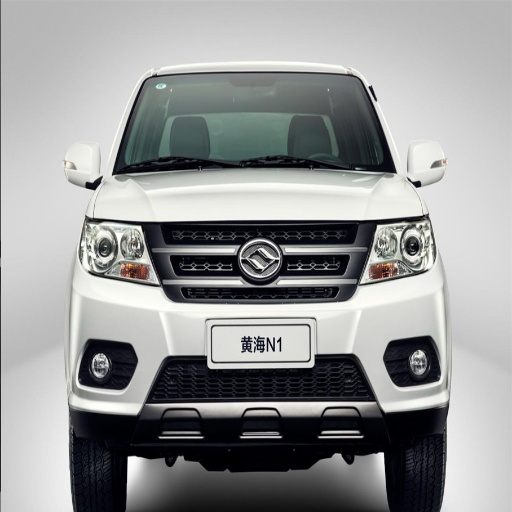back_right_light: (68, 221, 451, 444)
front_bumper: (113, 73, 396, 172)
front_left_door: (361, 215, 437, 284)
front_right_door: (79, 219, 157, 285)
front_right_light: (94, 168, 425, 221)
hood: (408, 141, 445, 186)
left_mirror: (64, 143, 99, 189)
trunk: (379, 415, 445, 511), (70, 416, 125, 511)
